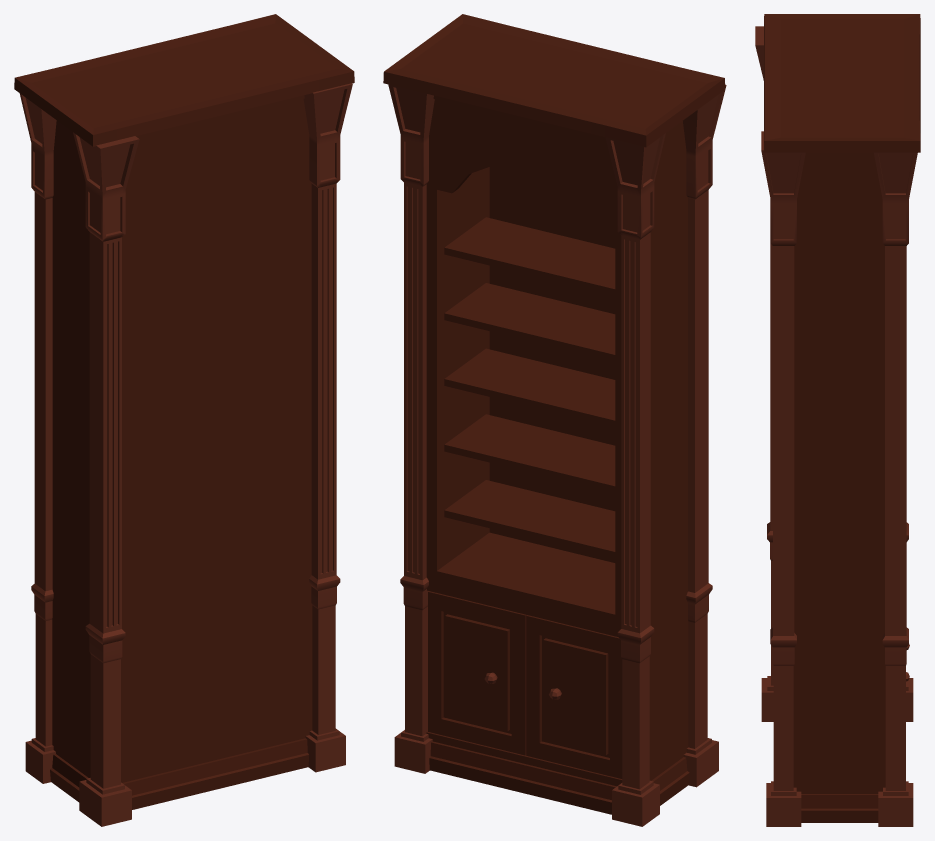
Rendered from Mesh_BookShelf.fbx.
The picture shows the model from 3 angles, left to right: view 1: azimuth 30°, elevation 25°; view 2: azimuth 150°, elevation 25°; view 3: azimuth 270°, elevation 25°; orthographic projection.
Parts seen in each view (by area): view 1: Mesh_BoockShelf; view 2: Mesh_BoockShelf; view 3: Mesh_BoockShelf.
Boxes of the visible parts, x1,y1,x2,y2 form: Mesh_BoockShelf: (14,14,354,826); Mesh_BoockShelf: (383,14,726,826); Mesh_BoockShelf: (755,14,920,826).
Bounding box in the file's own units: 364 × 922 × 200.
